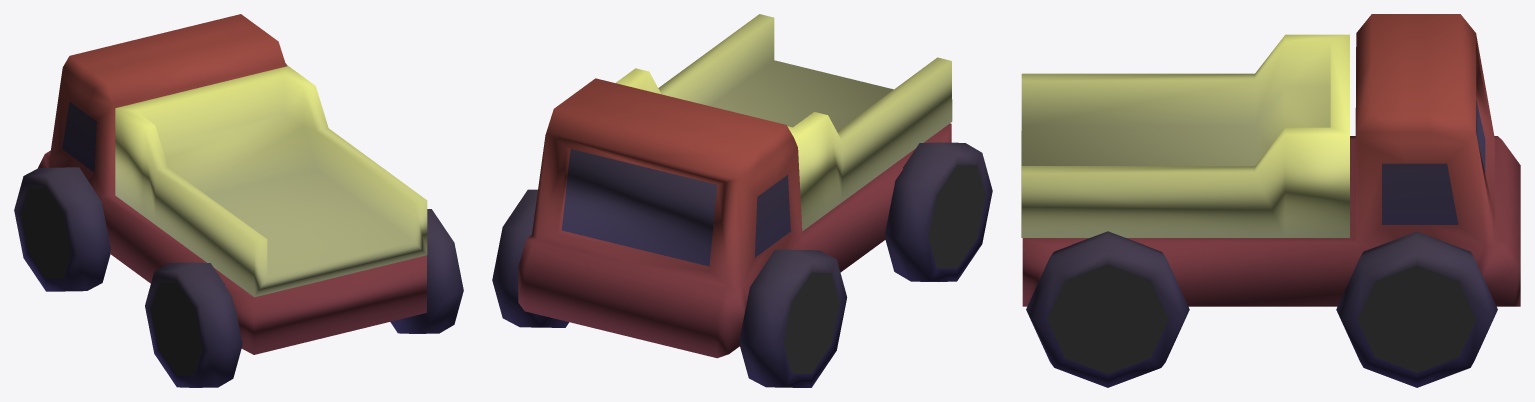
The model's file is ToyDumpTruck.fbx.
3 renders of one model, left to right at view 1: azimuth 30°, elevation 25°; view 2: azimuth 150°, elevation 25°; view 3: azimuth 270°, elevation 25°, orthographic. The views are drawn at different scales.
Parts seen in each view (by area): view 1: DumpTruck, Bucket; view 2: DumpTruck, Bucket; view 3: DumpTruck, Bucket.
Boxes of the visible parts, x1,y1,x2,y2 form: DumpTruck: (14,14,463,387); Bucket: (115,66,427,297); DumpTruck: (492,78,992,387); Bucket: (615,14,952,230); DumpTruck: (1022,14,1520,387); Bucket: (1021,34,1349,237).
Size of the model in its own units: 295 by 240 by 423.
